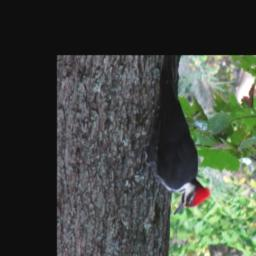Woodpecker: (135, 56, 213, 216)
